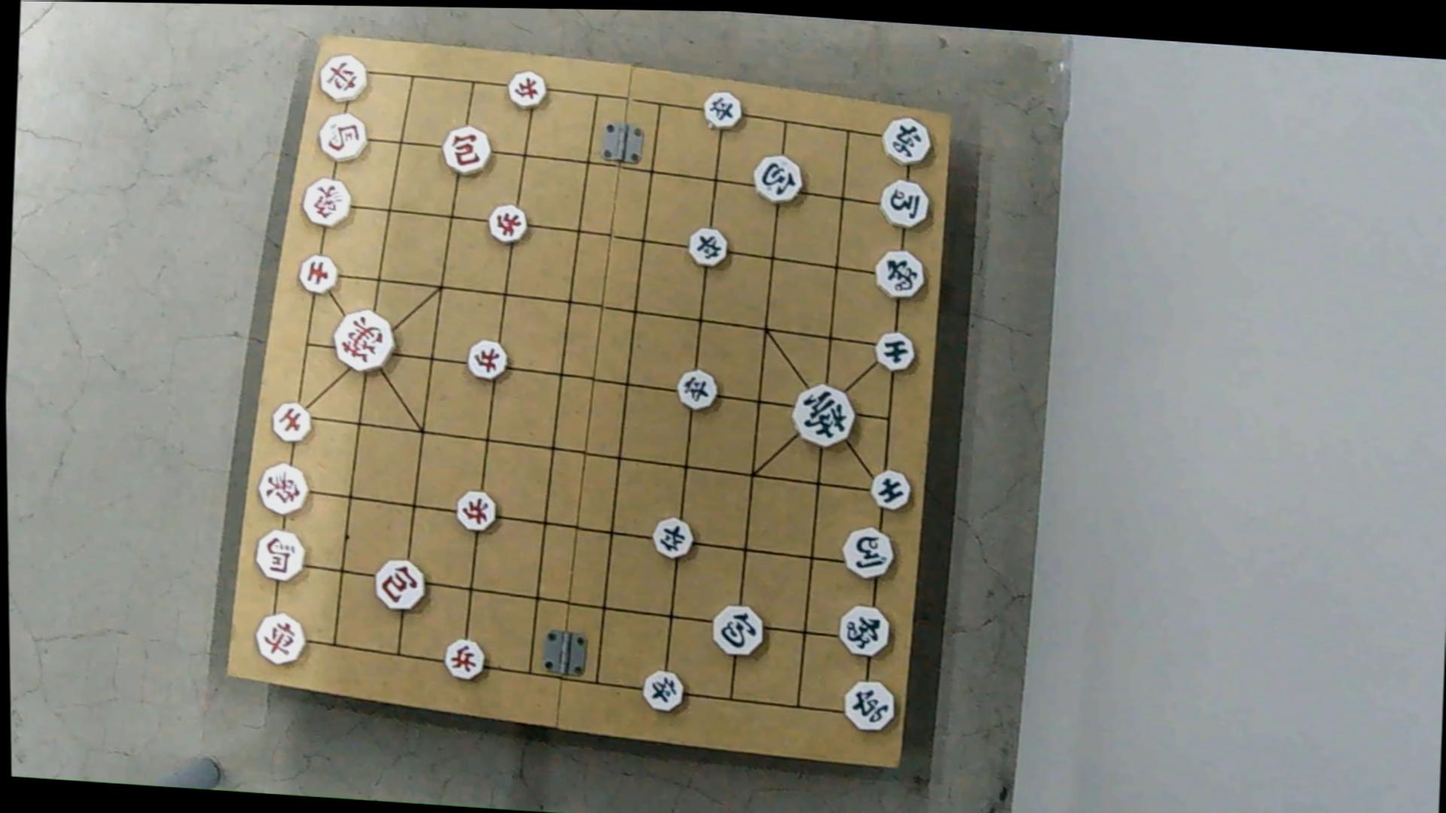cha_green: (840, 679, 898, 734), (880, 119, 935, 166)
cha_red: (253, 615, 307, 663), (317, 56, 369, 102)
jol_green: (685, 226, 731, 269), (639, 669, 685, 711), (648, 520, 695, 559), (677, 370, 722, 410), (703, 93, 746, 130)
jol_red: (487, 202, 532, 243), (441, 638, 486, 678), (454, 490, 499, 528), (467, 341, 511, 379), (505, 72, 548, 108)
ma_green: (840, 529, 898, 580), (878, 180, 934, 227)
ma_red: (316, 111, 370, 163), (255, 531, 308, 581)
po_green: (710, 602, 767, 656), (752, 154, 807, 201)
po_red: (375, 560, 431, 611), (444, 128, 496, 175)
sa_green: (873, 332, 918, 376), (871, 470, 915, 508)
sa_red: (269, 401, 319, 447), (300, 254, 343, 292)
sang_green: (833, 601, 894, 659), (870, 246, 927, 303)
sang_red: (255, 464, 310, 513), (300, 180, 353, 227)
wang_green: (788, 387, 854, 446)
wang_red: (331, 308, 400, 372)
